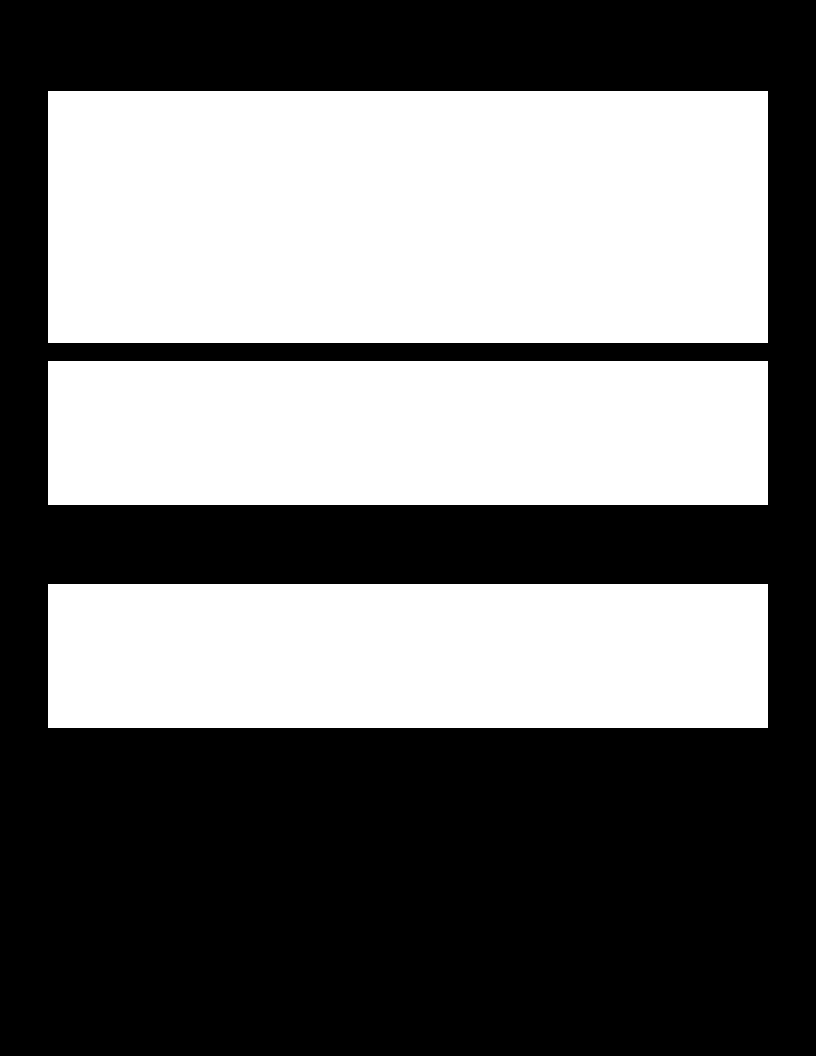table: (48, 91, 767, 342), (48, 361, 767, 504), (48, 584, 767, 727)
